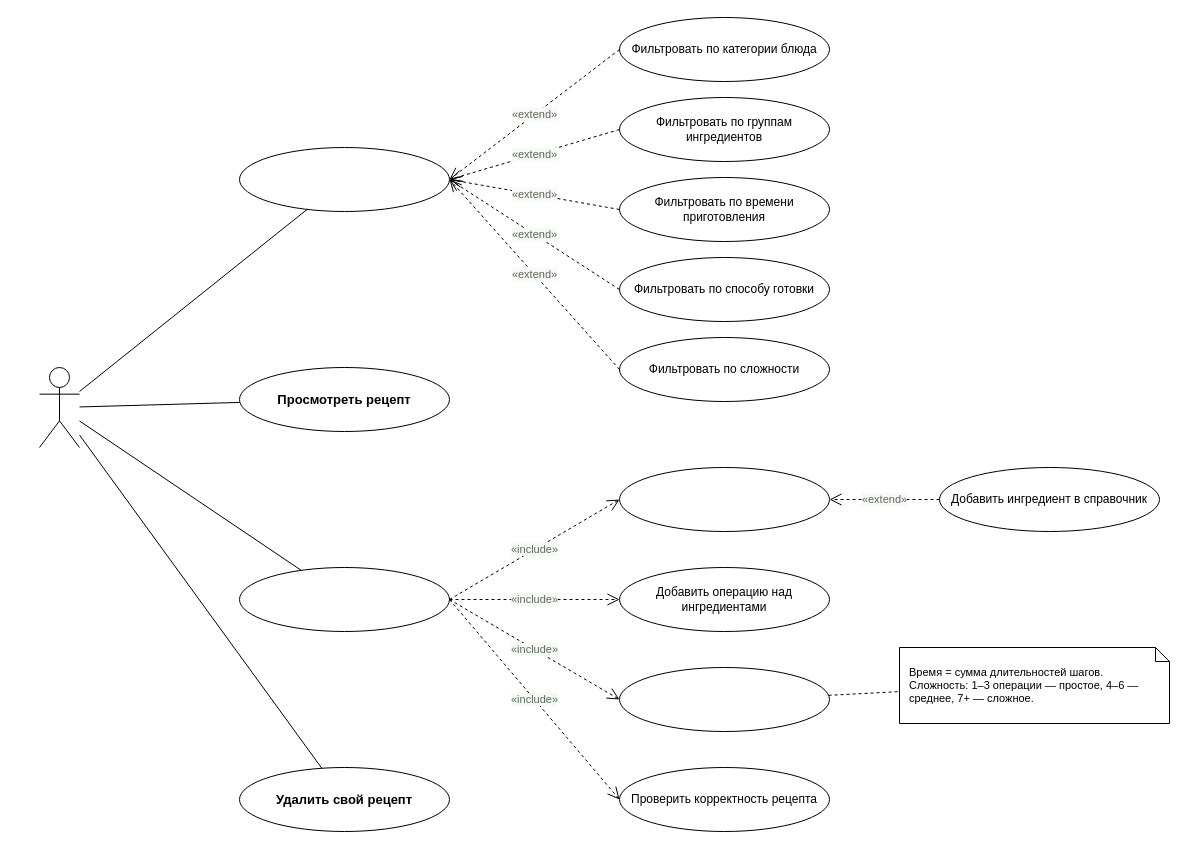
The diagram is 1187 pixels wide and 849 high, and some of its shapes have lost their labels. The centre of each missing label's shape, as x and y in pixels:
"Выбрать ингредиенты и количество" belongs at point 724,499.
"Добавить рецепт" belongs at point 344,599.
"Искать рецепты по названию и ингредиентам" belongs at point 344,179.
"Пользователь" belongs at point 59,407.
"Рассчитать время и сложность" belongs at point 724,699.
